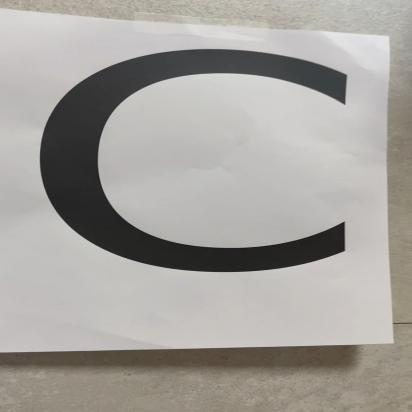seat: (0, 3, 375, 341)
